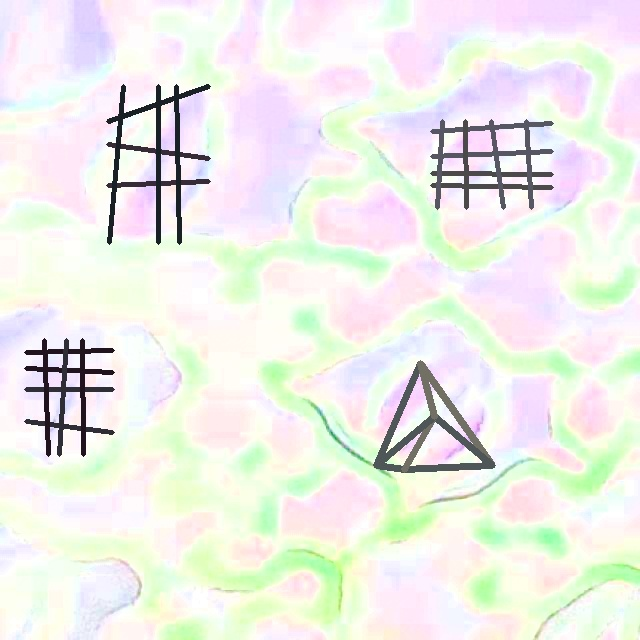open: (107, 85, 210, 243), (373, 360, 495, 472), (430, 119, 553, 209), (24, 338, 114, 455)
